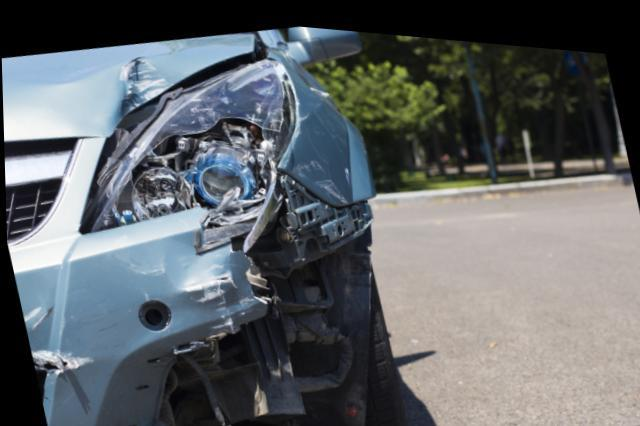crack: (29, 353, 74, 373)
dent: (118, 56, 171, 116)
lamp broken: (85, 58, 294, 234)
no part: (160, 170, 371, 426)
scratch: (175, 258, 255, 328), (289, 153, 349, 198), (21, 305, 51, 334)
